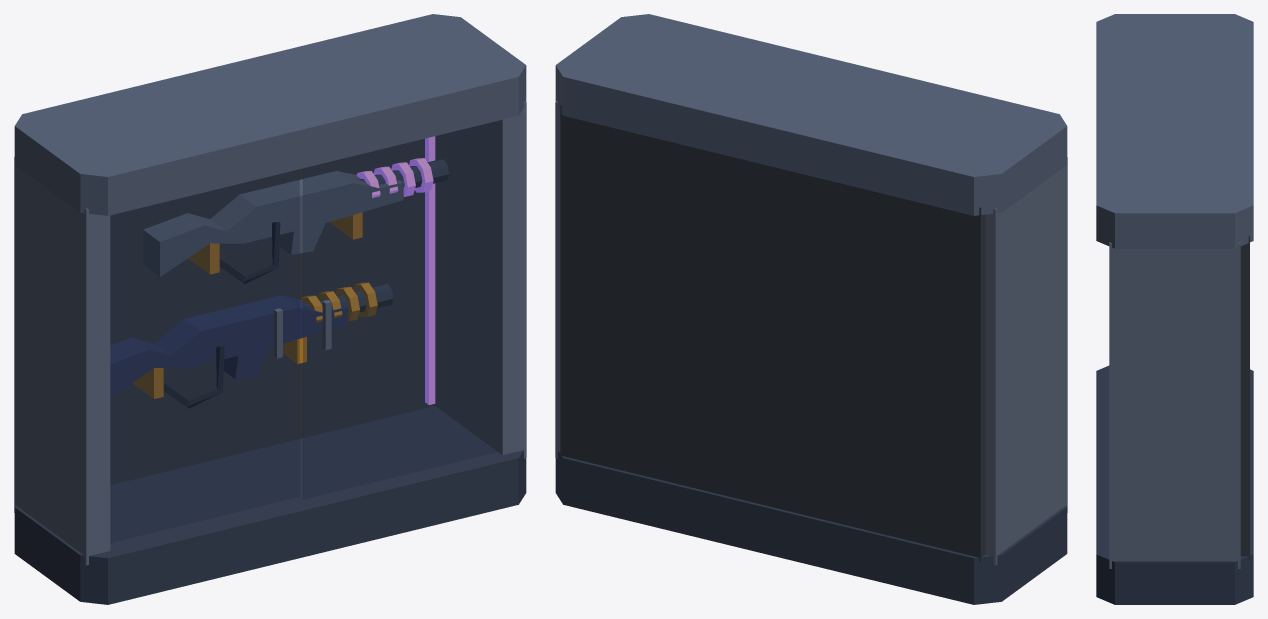
Rendered from lab_prototype_weapon_rack.glb.
The picture shows the model from 3 angles, left to right: view 1: azimuth 30°, elevation 25°; view 2: azimuth 150°, elevation 25°; view 3: azimuth 270°, elevation 25°; orthographic projection. The views are drawn at different scales.
Visible parts, largest first — view 1: slider, inert_test_body, stile, fixture_board, case_plinth, inert_test_body.001, backlight, field_coil.004, probe_lead; view 2: fixture_board, inert_test_body, stile, case_plinth; view 3: stile, inert_test_body, case_plinth, fixture_board.
Part boxes in pixels (x1,y1,x2,y2): slider: (110,121,498,542); inert_test_body: (14,14,526,358); stile: (14,101,526,565); fixture_board: (110,139,435,484); case_plinth: (14,159,526,604); inert_test_body.001: (110,295,347,396); backlight: (356,136,435,404); field_coil.004: (132,212,377,398); probe_lead: (163,222,280,408); fixture_board: (560,105,985,561); inert_test_body: (555,14,1067,215); stile: (555,101,1067,565); case_plinth: (555,450,1067,604); stile: (1109,242,1240,568); inert_test_body: (1096,14,1253,248); case_plinth: (1096,365,1253,604); fixture_board: (1240,235,1249,559).
Size of the model in its own units: 2.4 by 2.2 by 0.8.
